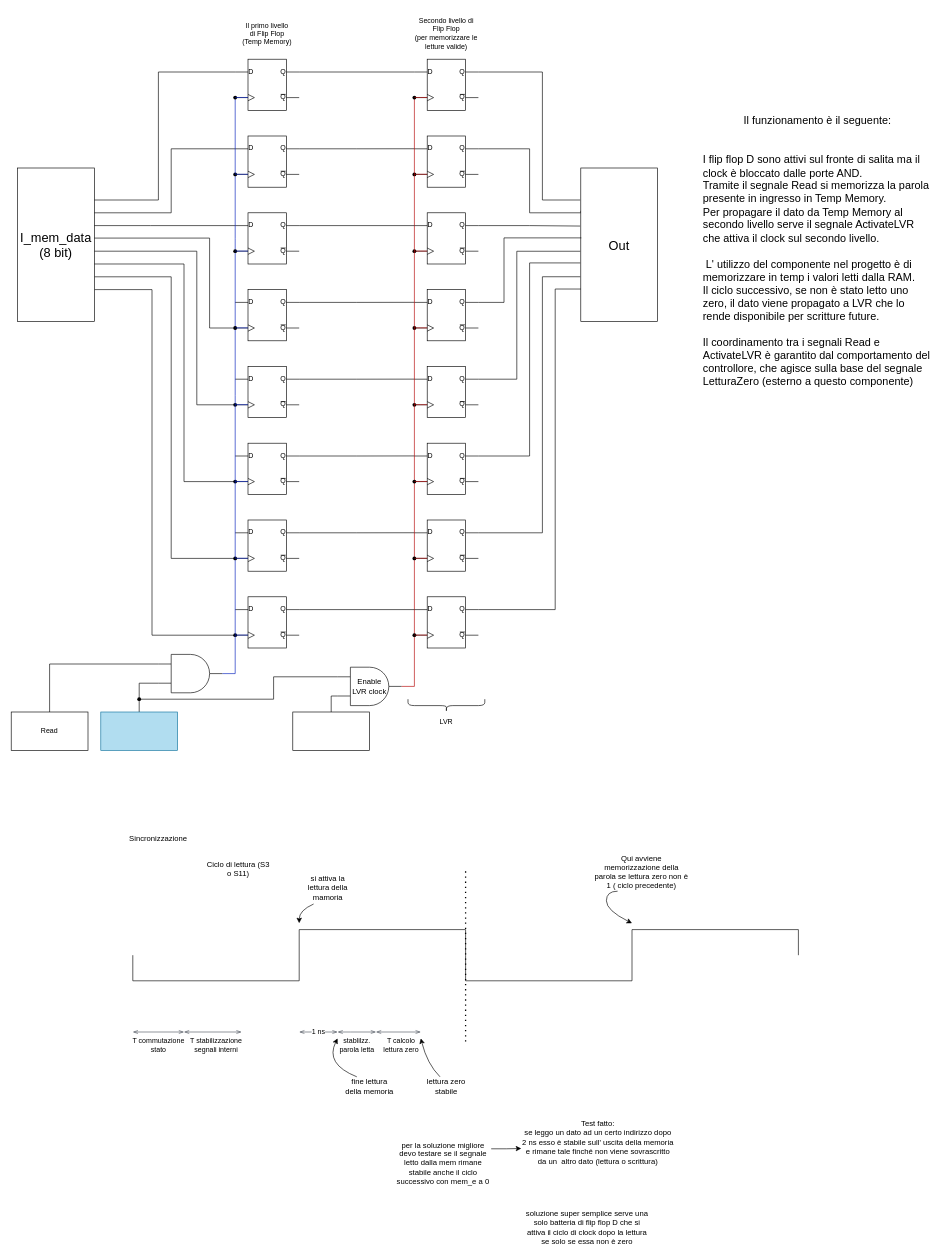
Some shapes in this 944 by 1256 pixel diagram are drawn without their labels. The box of each missing label's shape, as (x1, y1, x2, y2) in pixels:
ActivateLVR: (292, 711, 370, 750)
Clock: (100, 711, 178, 750)
Enable read: (158, 654, 222, 693)
